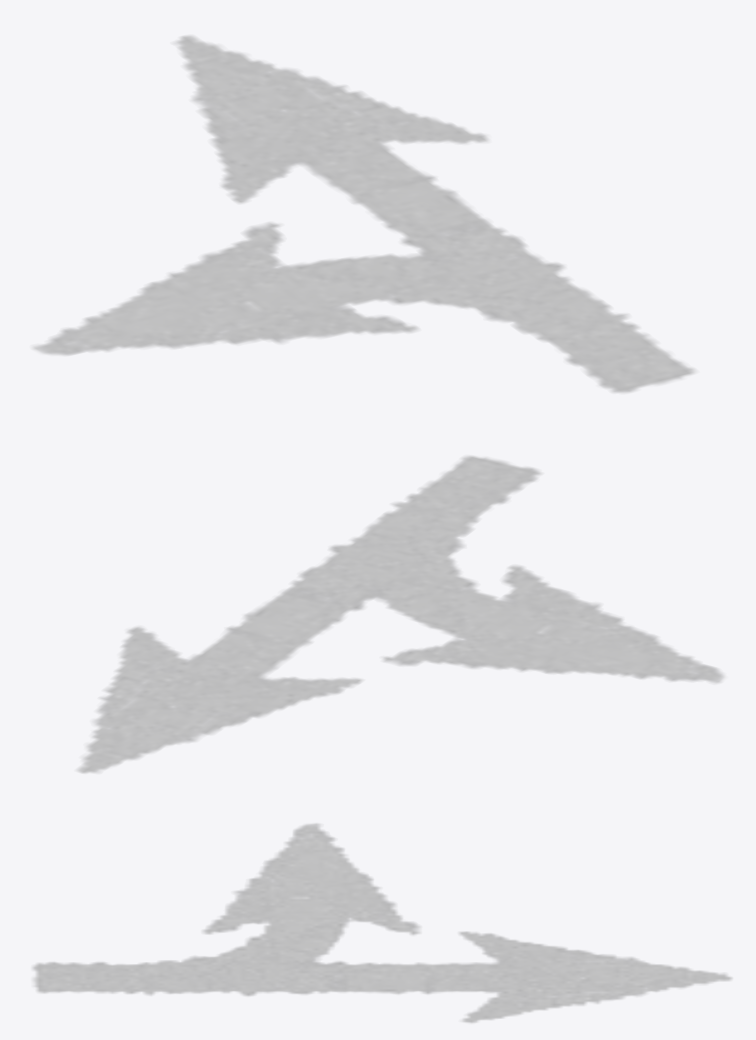
The model's file is Decal_ArrowForwardLeft.glb.
3 views of the same model, one above another, from view 1: azimuth 30°, elevation 25°; view 2: azimuth 150°, elevation 25°; view 3: azimuth 270°, elevation 25° (orthographic). The views are drawn at different scales.
Visible parts, largest first — view 1: Decal_ArrowForwardLeft; view 2: Decal_ArrowForwardLeft; view 3: Decal_ArrowForwardLeft.
Boxes of the visible parts, box(x1,y1,x2,y2) form: Decal_ArrowForwardLeft: box(33, 35, 695, 392); Decal_ArrowForwardLeft: box(77, 455, 724, 773); Decal_ArrowForwardLeft: box(32, 823, 732, 1022).
Size of the model in its own units: 1.78 by 0 by 2.67.
Materials: 1 (1 with a texture image).
